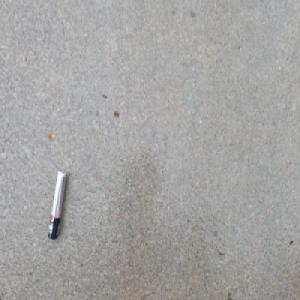Battery: (46, 168, 67, 242)
